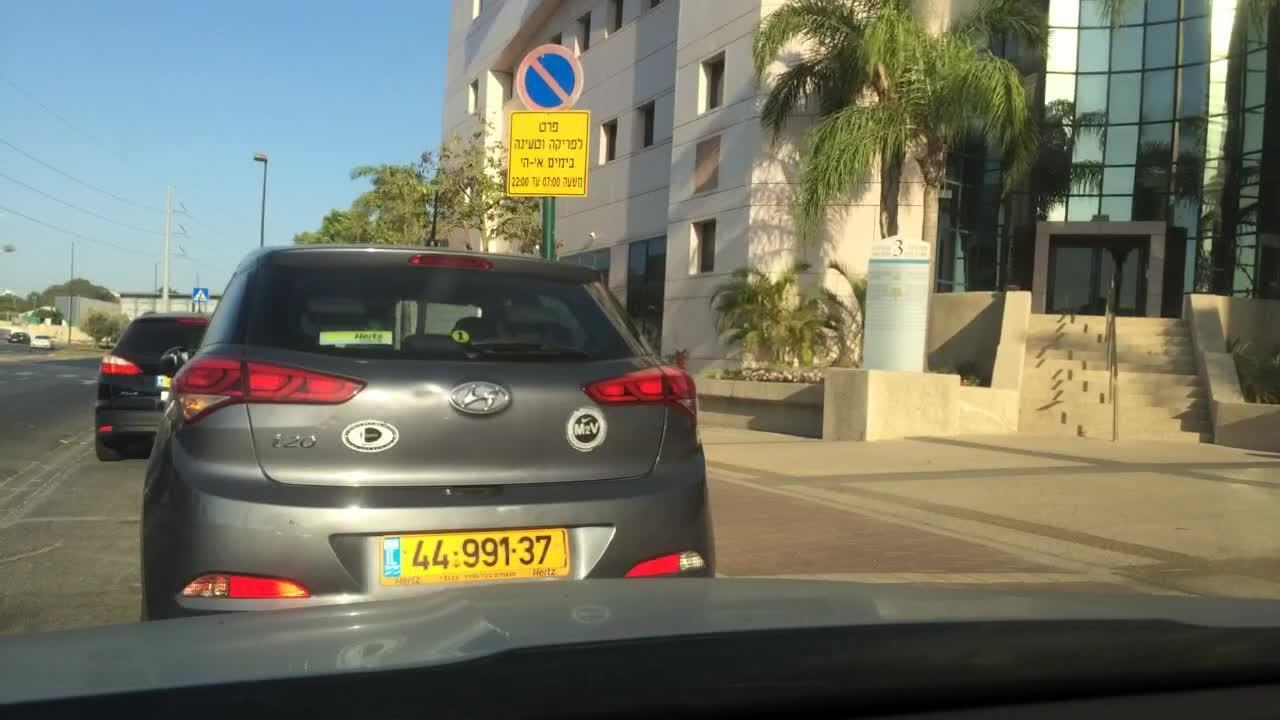Hyundai: (449, 381, 518, 419)
